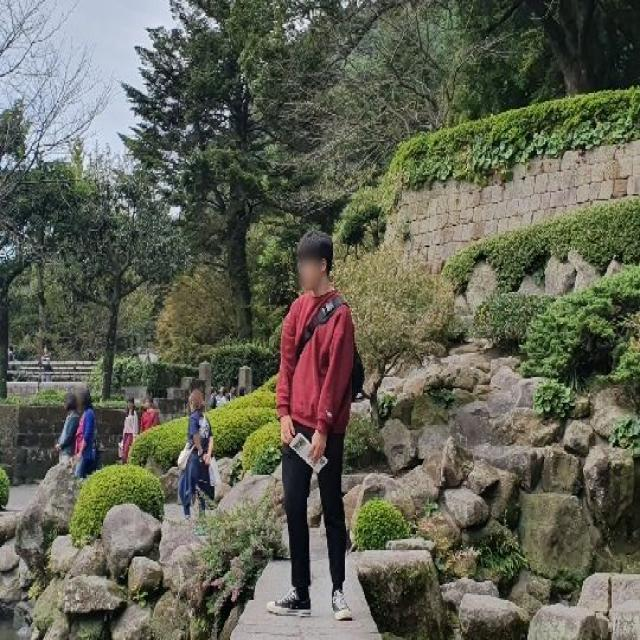denimpants: (279, 425, 345, 594)
mtm: (274, 290, 356, 443)
